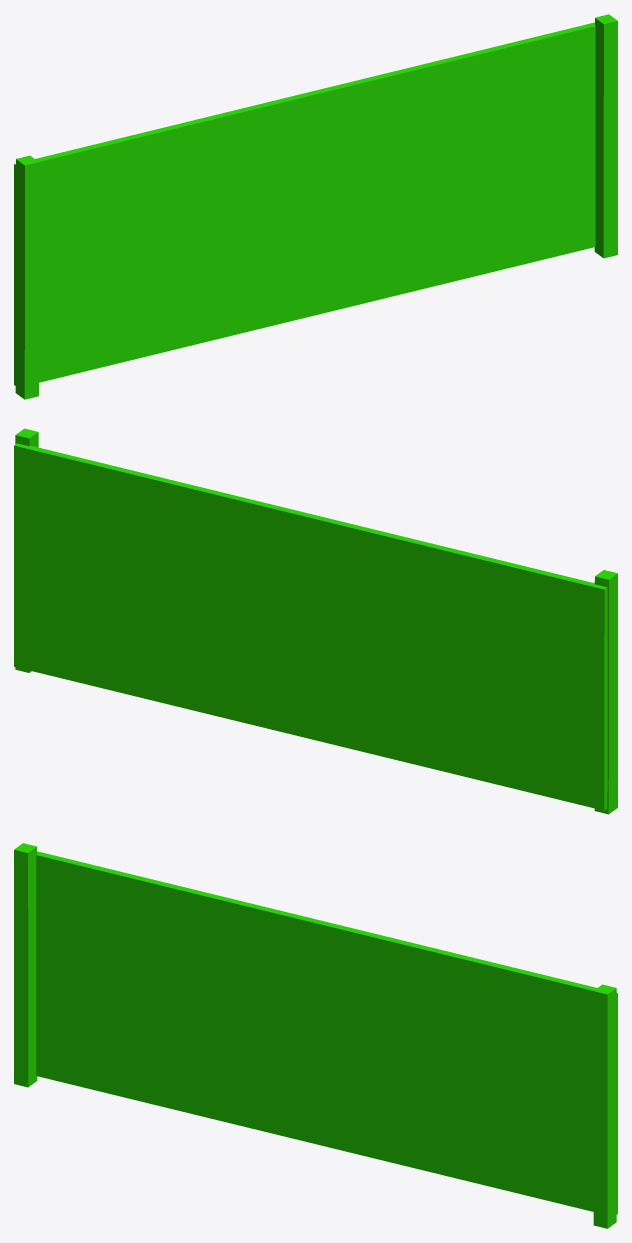
Rendered from Signboard_Wood_04.fbx.
The picture shows the model from 3 angles, top to bottom: view 1: azimuth 30°, elevation 25°; view 2: azimuth 150°, elevation 25°; view 3: azimuth 330°, elevation 25°; orthographic projection.
Visible parts, largest first — view 1: Signboard_Wood_04; view 2: Signboard_Wood_04; view 3: Signboard_Wood_04.
Boxes of the visible parts, bbox=[...] form: Signboard_Wood_04: bbox=[14, 14, 617, 399]; Signboard_Wood_04: bbox=[14, 428, 617, 814]; Signboard_Wood_04: bbox=[14, 843, 617, 1228].
Size of the model in its own units: 221 by 83.25 by 7.91.
